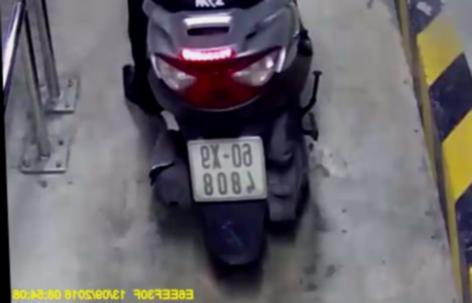License_Plate: (184, 130, 270, 211)
